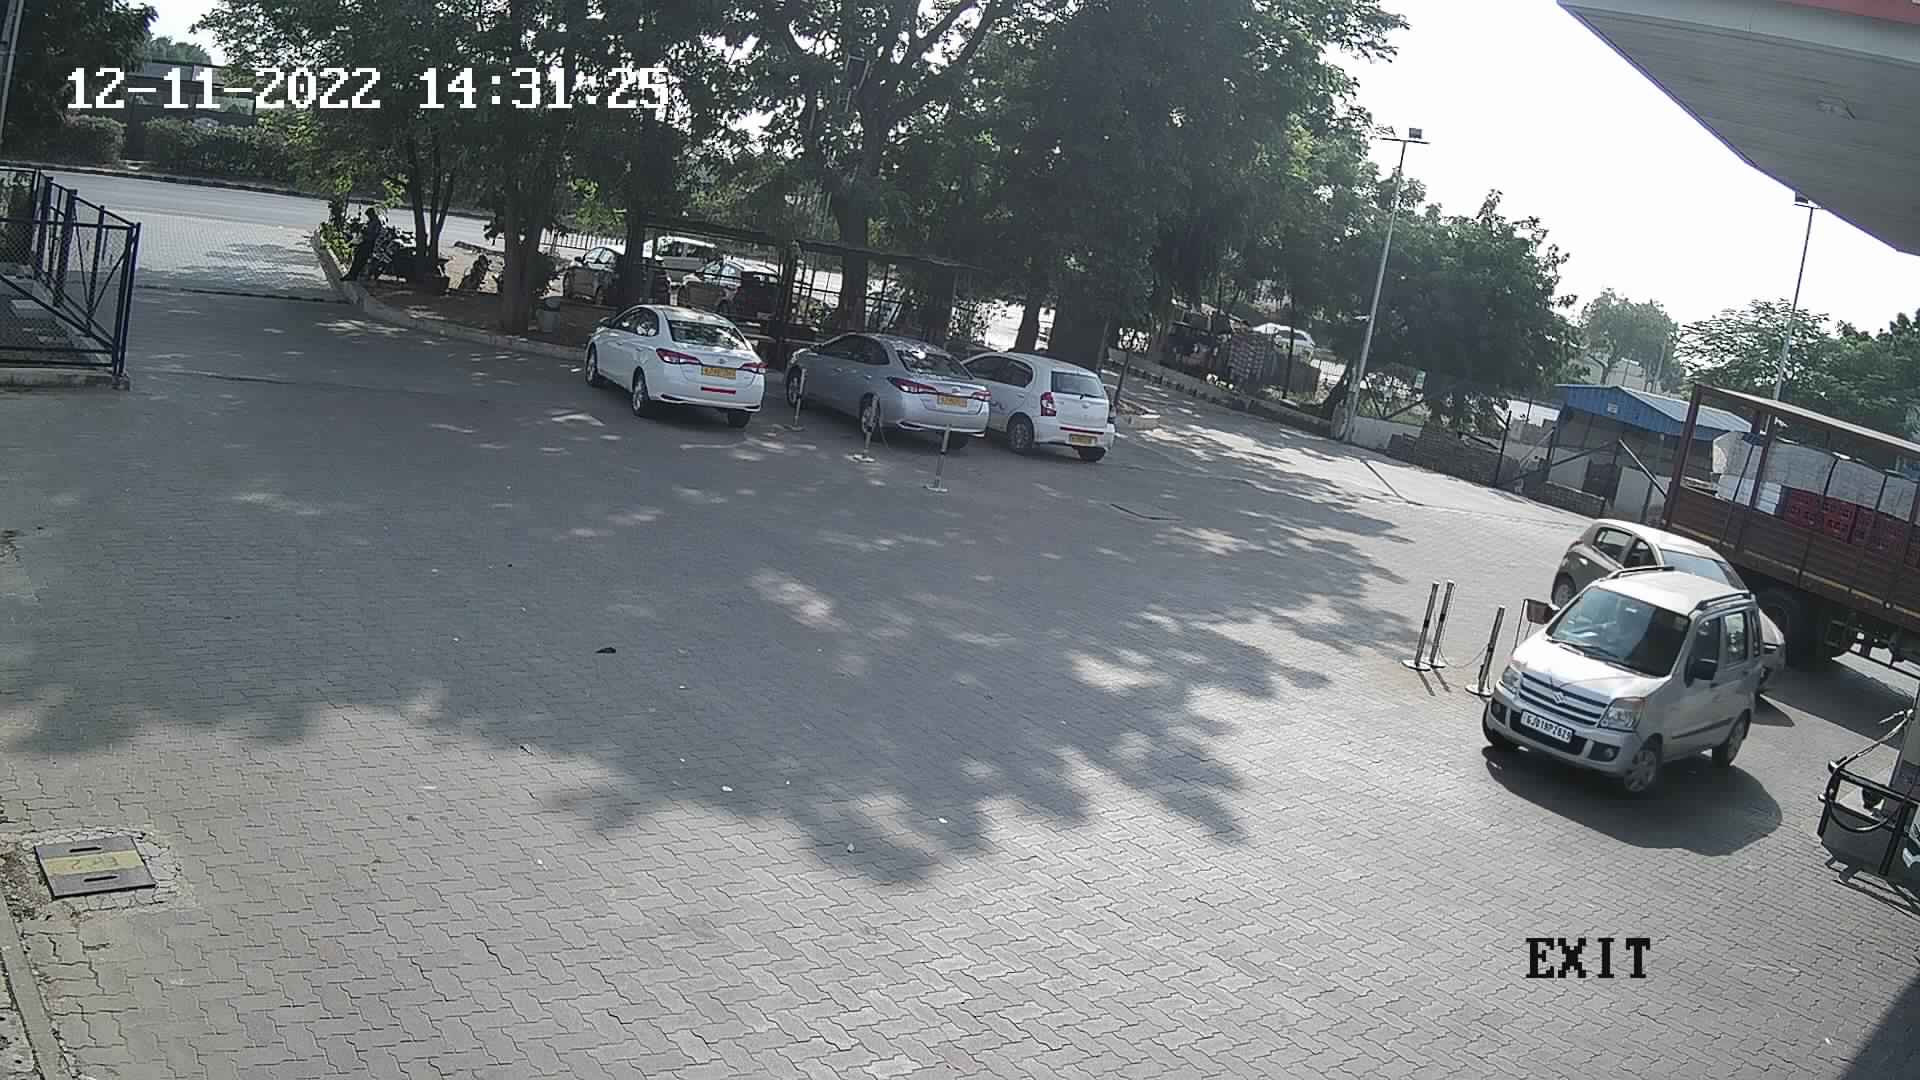Car: (1469, 547, 1792, 799), (1544, 506, 1793, 702), (783, 313, 1018, 455), (576, 286, 781, 429), (926, 331, 1121, 462), (667, 248, 786, 316), (636, 222, 731, 286), (556, 240, 636, 313)
HMV: (1635, 361, 1917, 684)
